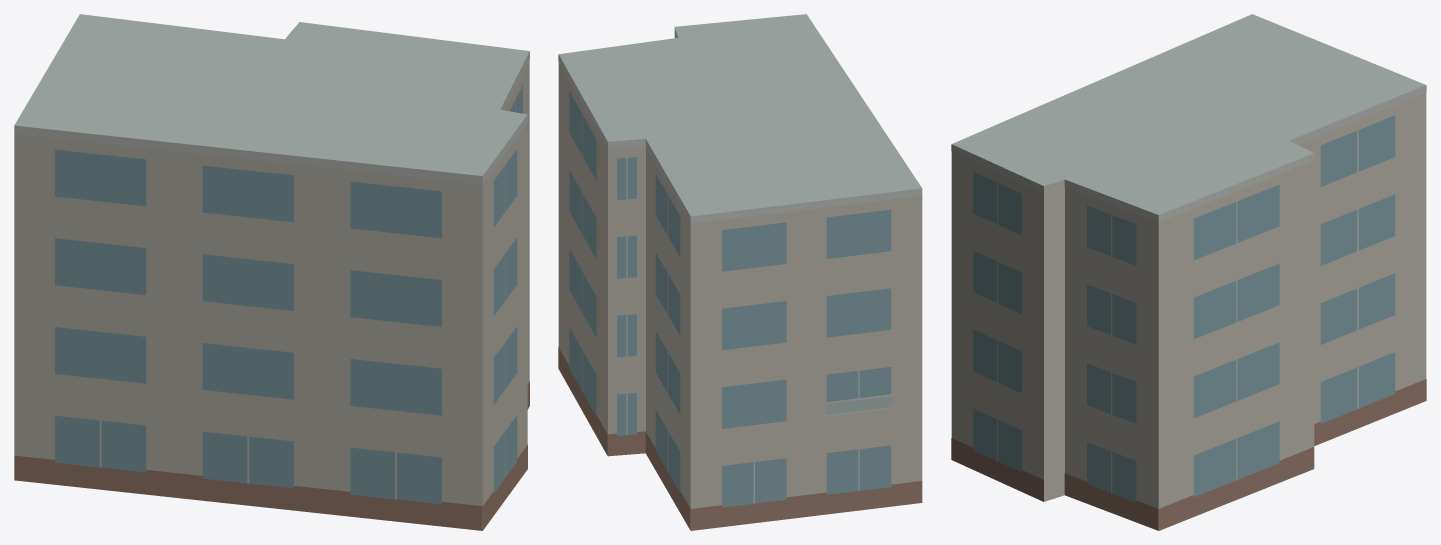
File: survey-upis-32978384.glb
The picture shows the model from 3 angles, left to right: view 1: azimuth 30°, elevation 25°; view 2: azimuth 150°, elevation 25°; view 3: azimuth 270°, elevation 25°; orthographic projection. The views are drawn at different scales.
Parts seen in each view (by area): view 1: survey-upis-32978384.tmp; view 2: survey-upis-32978384.tmp; view 3: survey-upis-32978384.tmp.
Boxes of the visible parts, x1,y1,x2,y2 form: survey-upis-32978384.tmp: (14,14,529,530); survey-upis-32978384.tmp: (558,14,922,530); survey-upis-32978384.tmp: (951,14,1426,530).
Size of the model in its own units: 14.35 by 10.5 by 14.32.
